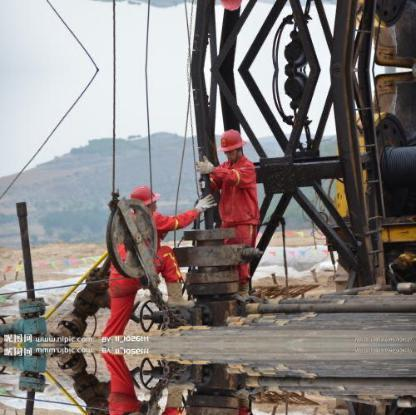helmet: (219, 129, 248, 155), (127, 186, 162, 207)
